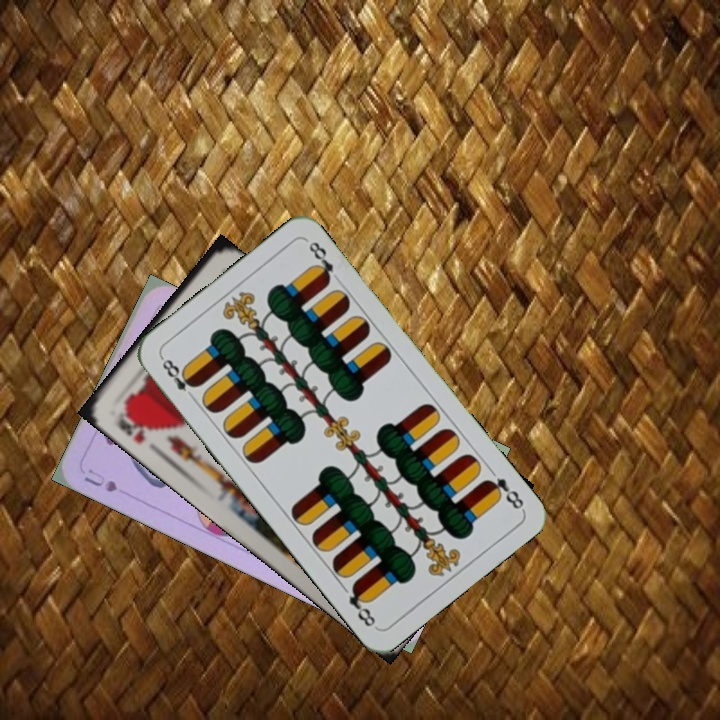E8: (157, 353, 200, 404), (480, 473, 527, 513)
HK: (113, 404, 154, 447)
SU: (80, 465, 120, 495)
